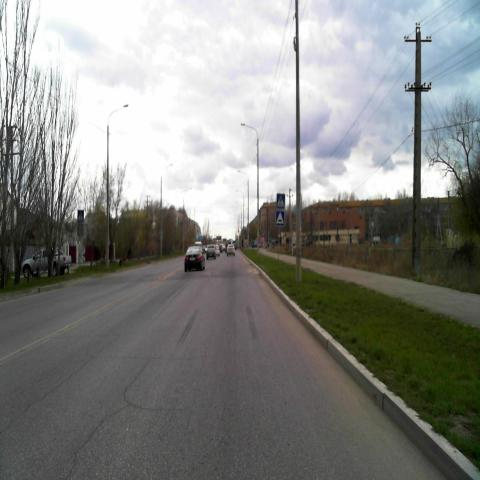5_19_1: (277, 193, 285, 209), (77, 209, 84, 222)
5_20: (276, 211, 284, 225)
